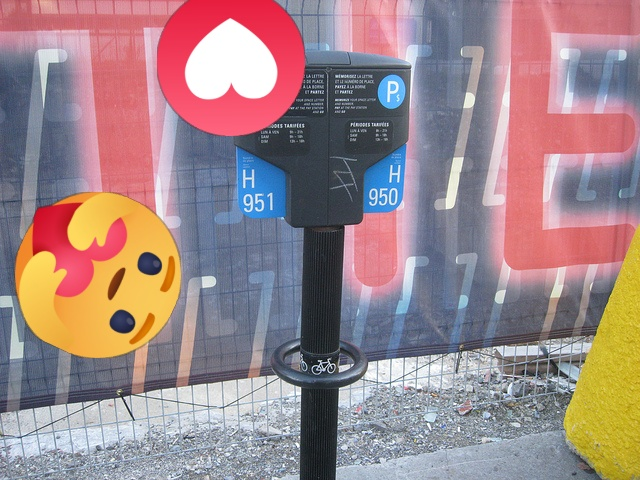care: (15, 192, 181, 358)
love: (157, 0, 305, 136)
